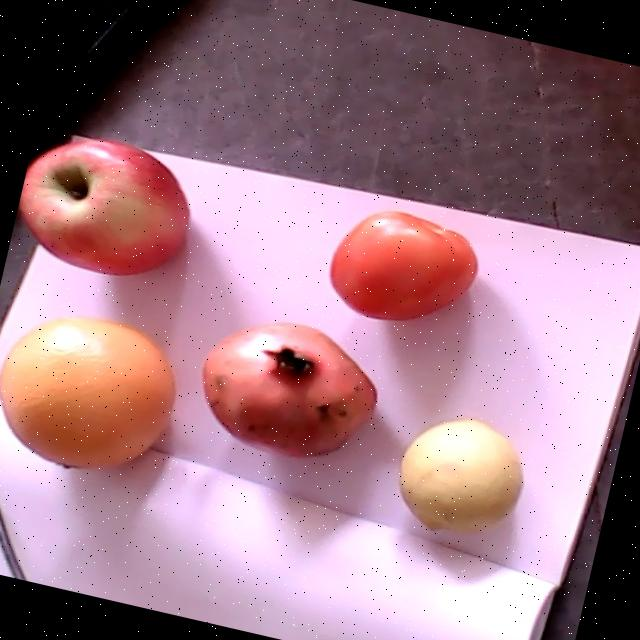apple: (18, 137, 189, 275)
lemon: (396, 418, 523, 532)
orange: (0, 317, 176, 468)
pomegranate: (201, 322, 376, 456)
tomato: (331, 209, 476, 321)
